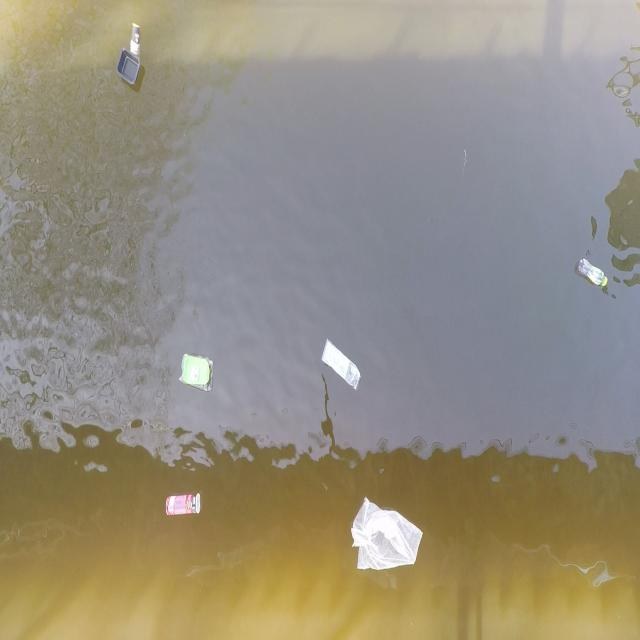Autre plastique: (316, 336, 364, 392), (173, 346, 220, 399), (114, 48, 146, 92)
Bouteille plastique: (574, 254, 610, 292)
Non plastique: (128, 19, 142, 55)
Sac plastique: (343, 489, 428, 577)
